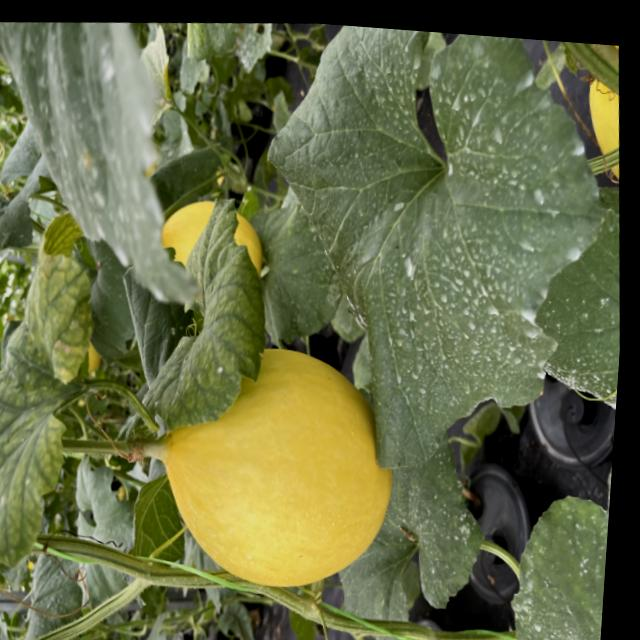downy mildew: (81, 179, 288, 486), (0, 200, 120, 575), (181, 19, 241, 67)
powdery mildew: (230, 19, 634, 492), (0, 7, 220, 320), (325, 428, 494, 640), (525, 201, 629, 464), (480, 480, 611, 640), (591, 444, 613, 528)
